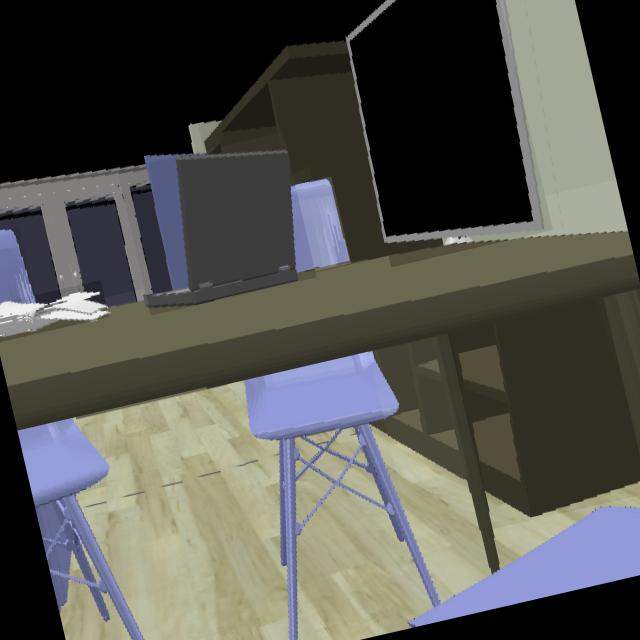book: (0, 288, 108, 339)
bookshelf: (448, 303, 640, 520), (204, 43, 386, 262), (371, 339, 463, 479)
chair: (244, 353, 640, 640), (17, 420, 146, 640), (290, 179, 351, 272), (0, 231, 36, 307)
laptop: (146, 150, 298, 306)
monitor: (346, 0, 536, 247)
table: (0, 231, 640, 431)
